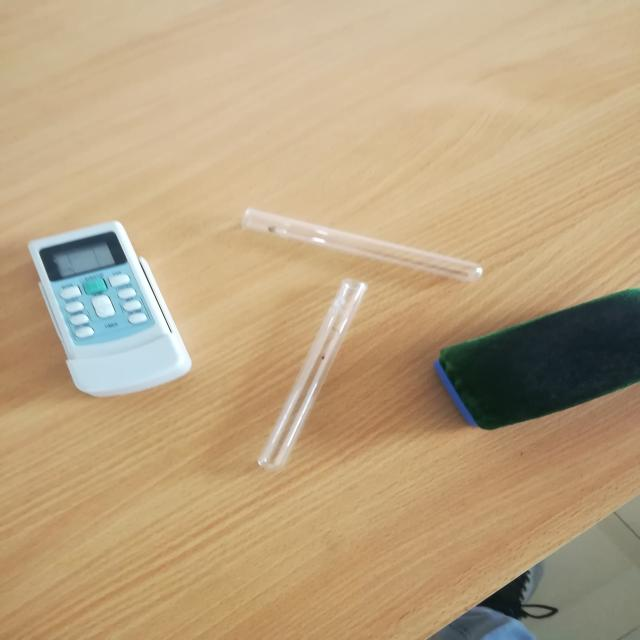Test_Tube: (228, 252, 376, 496), (226, 189, 509, 301)
